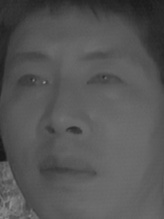eye: (83, 67, 127, 93), (13, 69, 53, 92)
mouth: (32, 149, 100, 191)
